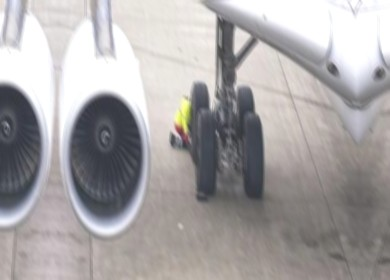chock: (193, 185, 209, 202)
wheel: (193, 103, 218, 199), (240, 107, 266, 199), (188, 79, 211, 165), (234, 82, 255, 139)
